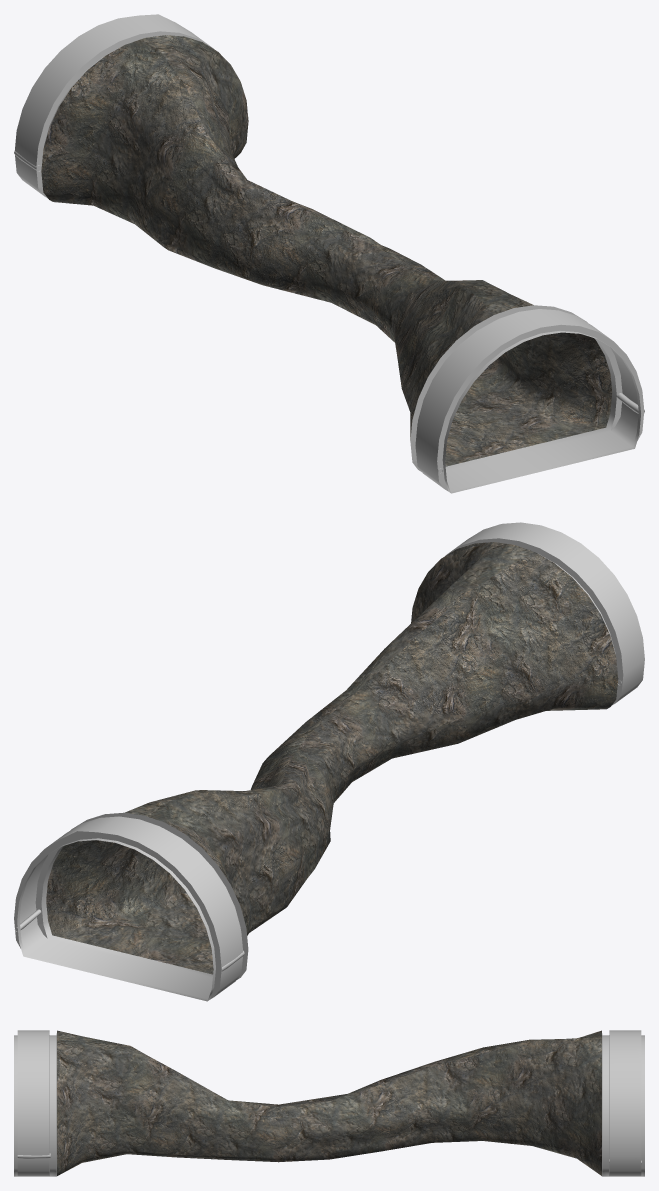
Rendered from Constrained_Short.DAE.
3 views of the same model, one above another, from view 1: azimuth 30°, elevation 25°; view 2: azimuth 150°, elevation 25°; view 3: azimuth 270°, elevation 25° (orthographic). The views are drawn at different scales.
Visible parts, largest first — view 1: Tunnel_Rock, Tunnel; view 2: Tunnel_Rock, Tunnel; view 3: Tunnel_Rock, Tunnel.
Boxes of the visible parts, x1,y1,x2,y2 form: Tunnel_Rock: [41, 35, 612, 466]; Tunnel: [14, 14, 644, 493]; Tunnel_Rock: [46, 542, 618, 974]; Tunnel: [14, 522, 644, 1001]; Tunnel_Rock: [57, 1030, 601, 1175]; Tunnel: [14, 1030, 644, 1176].
Bounding box in the file's own units: 564 × 2000 × 366.
